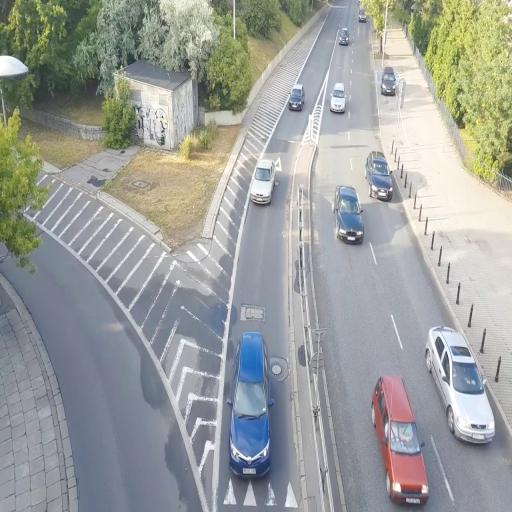vehicle: (424, 325, 496, 446), (371, 373, 429, 507), (228, 329, 272, 479), (335, 198, 364, 244), (368, 153, 393, 201), (250, 161, 276, 207), (330, 82, 347, 114), (380, 68, 398, 96), (268, 356, 288, 379), (288, 84, 304, 111), (338, 27, 350, 45)
